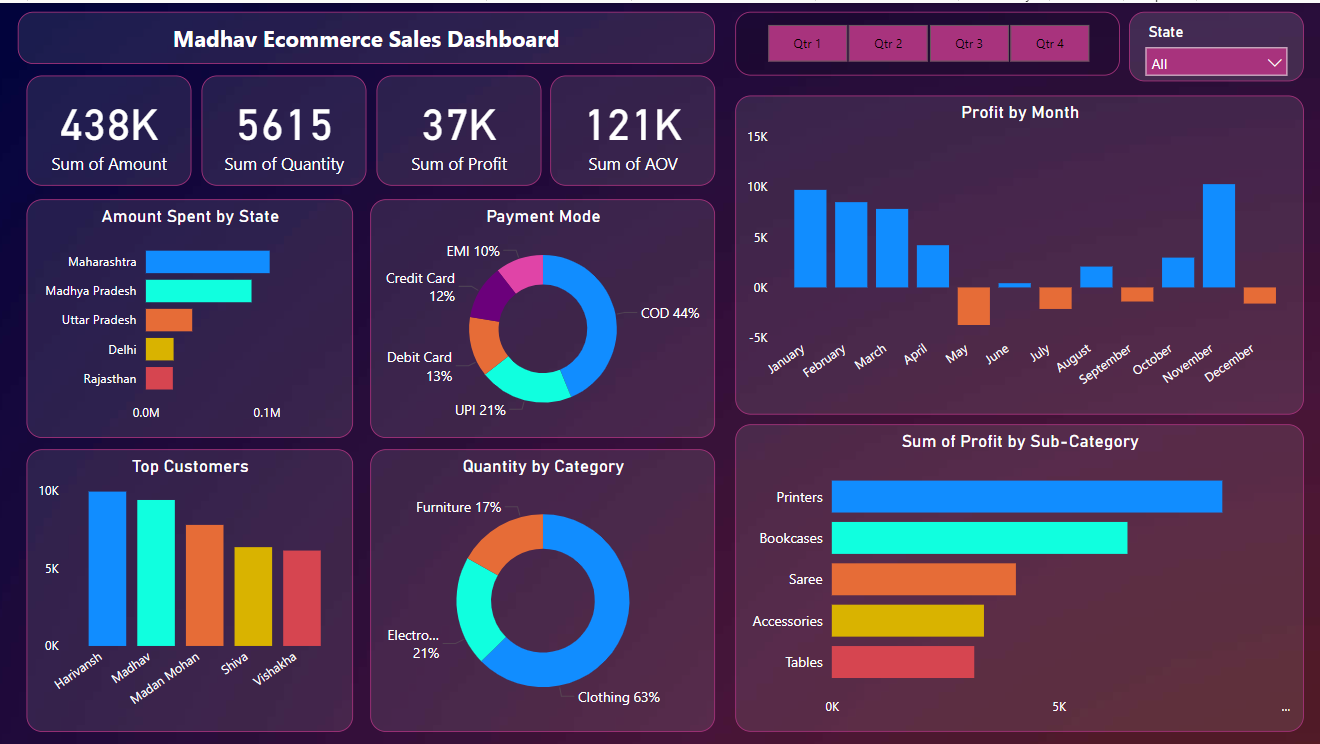

This screenshot's page, from the dashboard's own definition file:
{"tool":"powerbi","page":{"name":"Page 1","canvas":[1280,720],"ordinal":0},"visuals":[{"type":"textbox","box":[22.9,8.4,673.2,50.7],"z":0},{"type":"columnChart","title":"Profit by Month","fields":{"Category":["Orders.Order Date.Variation.Date Hierarchy.Month"],"Y":["Details.Profit"]},"box":[715.4,89.3,548.9,307.6],"z":1000},{"type":"barChart","fields":{"Category":["Details.Sub-Category"],"Y":["Details.Profit"]},"box":[715.4,406.6,548.9,296.8],"z":2000},{"type":"donutChart","title":"Quantity by Category","fields":{"Category":["Details.Category"],"Y":["Details.Quantity"]},"box":[363.1,430.7,333,272.7],"z":3000},{"type":"donutChart","title":"Payment Mode","fields":{"Category":["Details.PaymentMode"],"Y":["Details.Quantity"]},"box":[363.1,189.4,333,230.4],"z":4000},{"type":"card","fields":{"Values":["Details.Amount"]},"box":[31.4,70,159.3,106.2],"z":5000},{"type":"card","fields":{"Values":["Details.Quantity"]},"box":[200.3,70,159.3,106.2],"z":6000},{"type":"card","fields":{"Values":["Details.Profit"]},"box":[369.2,70,159.3,106.2],"z":7000},{"type":"card","fields":{"Values":["Details.AOV"]},"box":[536.9,70,159.3,106.2],"z":8000},{"type":"barChart","title":"Amount Spent by State","fields":{"Y":["Details.Amount"],"Category":["Orders.State"]},"box":[31.4,189.4,314.9,230.4],"z":9000},{"type":"columnChart","title":"Top Customers","fields":{"Category":["Orders.CustomerName"],"Y":["Details.Amount"]},"box":[31.4,430.7,314.9,272.7],"z":10000},{"type":"slicer","fields":{"Values":["Orders.Order Date.Variation.Date Hierarchy.Quarter"]},"box":[715.4,8.4,371.6,61.5],"z":11000},{"type":"slicer","fields":{"Values":["Orders.State"]},"box":[1095.4,8.4,168.9,67.6],"z":11001}]}

Visuals, with their boxes in screenshot pixels (x1, y1, x2, y2), scaled from the page's 1280x720 canvas onto the 1320x744 screenshot:
textbox: locate(24, 9, 718, 61)
"Profit by Month" columnChart: locate(738, 92, 1304, 410)
barChart - Details.Sub-Category x Details.Profit: locate(738, 420, 1304, 727)
"Quantity by Category" donutChart: locate(374, 445, 718, 727)
"Payment Mode" donutChart: locate(374, 196, 718, 434)
card - Details.Amount: locate(32, 72, 197, 182)
card - Details.Quantity: locate(207, 72, 371, 182)
card - Details.Profit: locate(381, 72, 545, 182)
card - Details.AOV: locate(554, 72, 718, 182)
"Amount Spent by State" barChart: locate(32, 196, 357, 434)
"Top Customers" columnChart: locate(32, 445, 357, 727)
slicer - Orders.Order Date.Variation.Date Hierarchy.Quarter: locate(738, 9, 1121, 72)
slicer - Orders.State: locate(1130, 9, 1304, 79)
